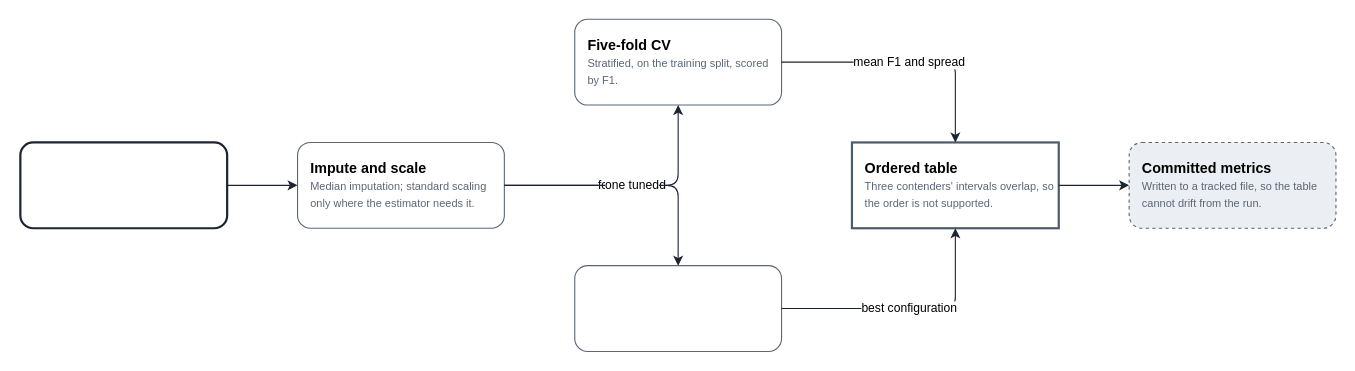
The diagram is 1355 pixels wide and 371 high, and some of its shapes have lost their labels. Each missing label, with the centre of its shape:
Grid search Twenty-seven configurations, and only for this one estimator.: [678,308]
Seeded generator 5,000 deterministic samples. No measurement of water anywhere.: [123,185]
